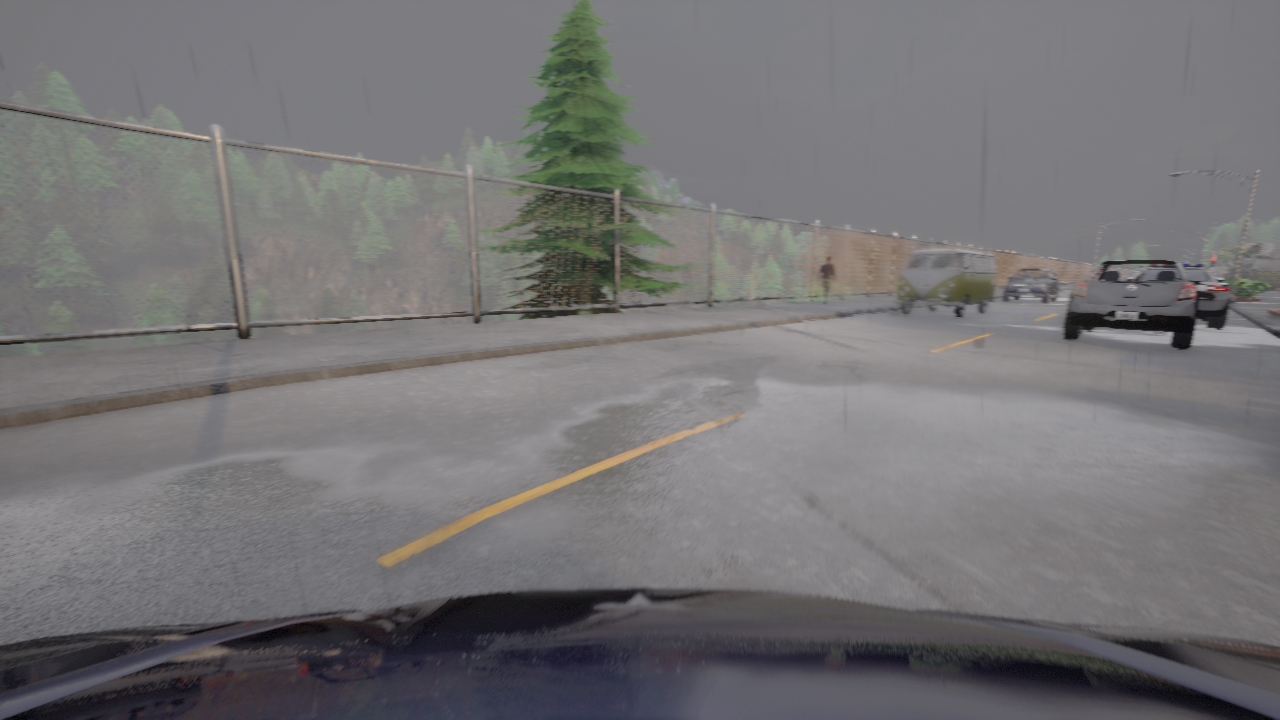cyclist: (0, 588, 1279, 719), (1063, 260, 1207, 348), (896, 248, 997, 317), (1181, 264, 1230, 328), (1003, 269, 1058, 303)
pedestrian: (818, 255, 835, 304)
